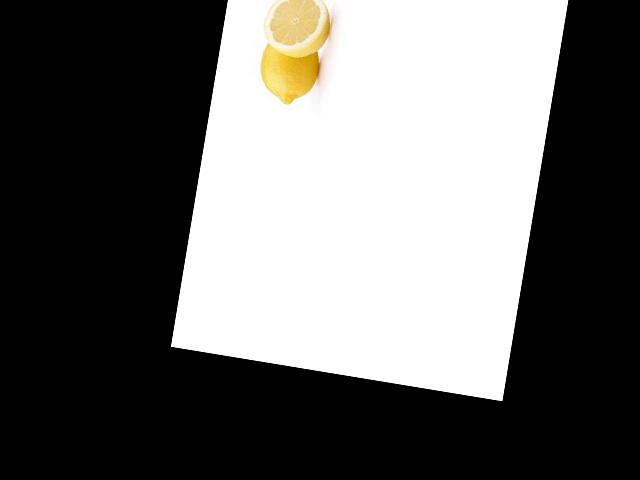lemon: (251, 31, 329, 113)
